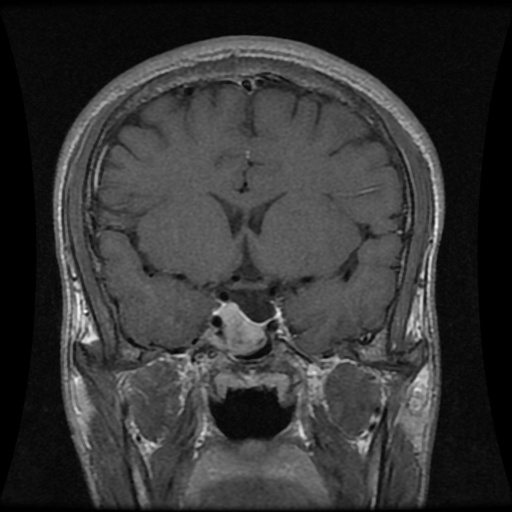pituitary: (211, 302, 263, 350)
